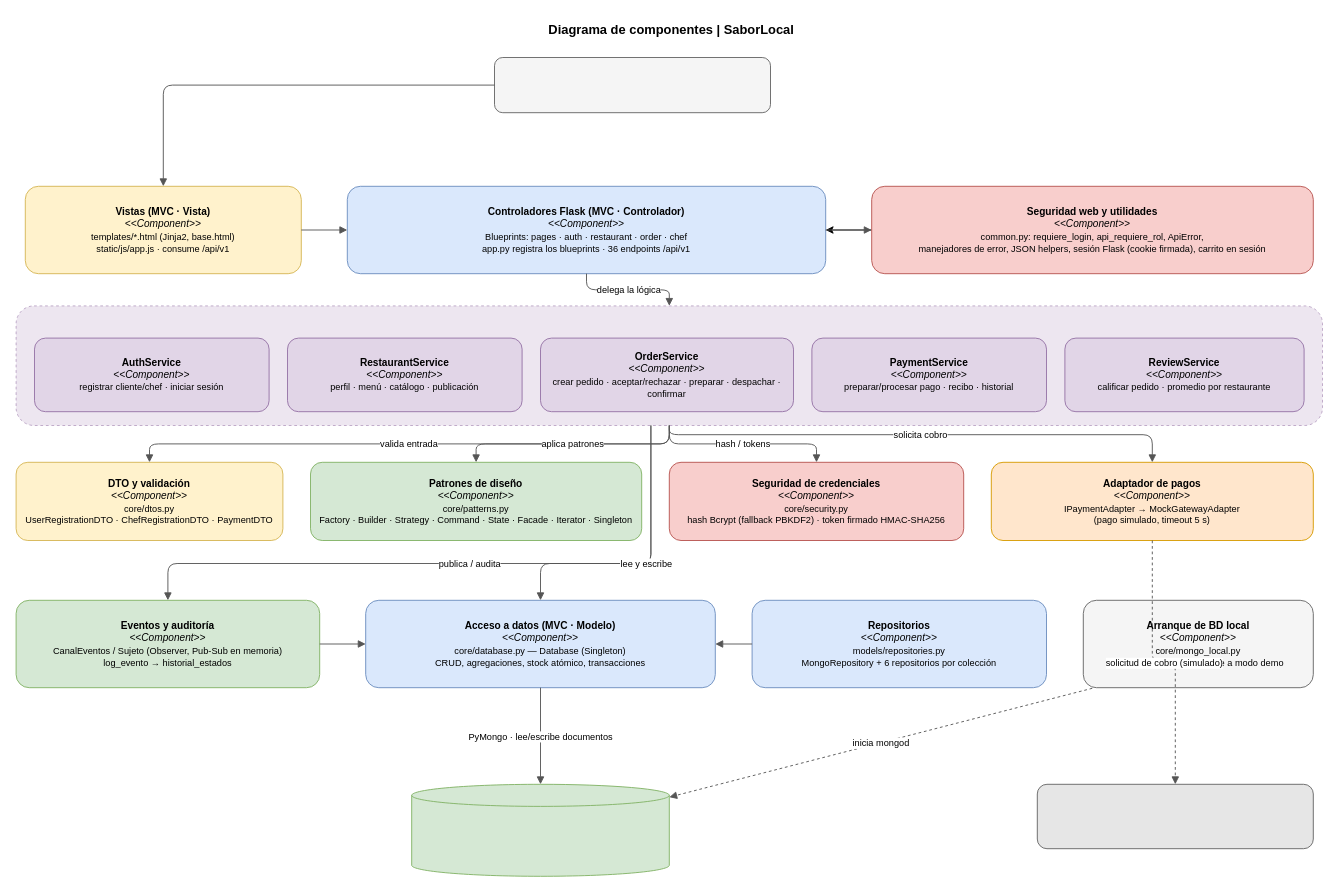
Image size: 1339x892. Some labels were removed from this diagram. Each missing label, with the box of its shape:
Base de datos <<Container>> MongoDB (PyMongo) o mongomock si SABORLOCAL_MOCK=1: (411, 783, 669, 876)
Capa de servicios de negocio (services/) — lógica de dominio: (15, 305, 1322, 426)
Navegador web <<Container>> HTML, CSS, Jinja2, JS: (494, 57, 770, 113)
Pasarela de pagos simulada <<Sistema externo>>: (1036, 783, 1313, 849)
